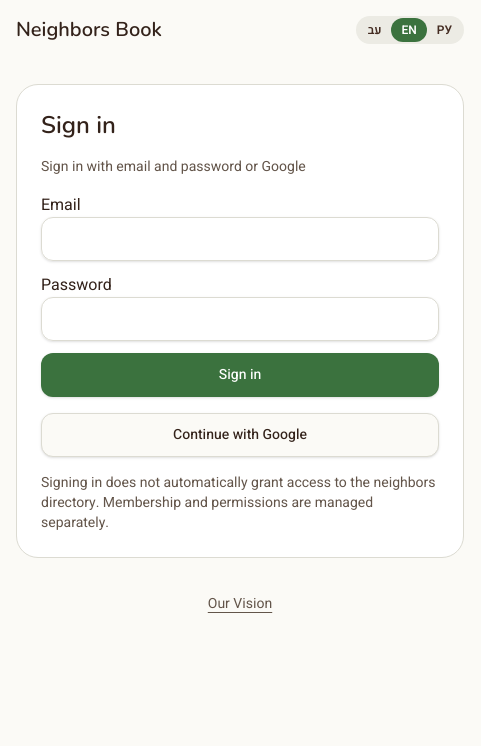
Test: never redirects or exposes raw credential errors after a failed sign-in
The image size is (481, 746).
Type "user@example.test" into the field labelled "Email". click: x=240, y=239
box: [41,217,439,261]
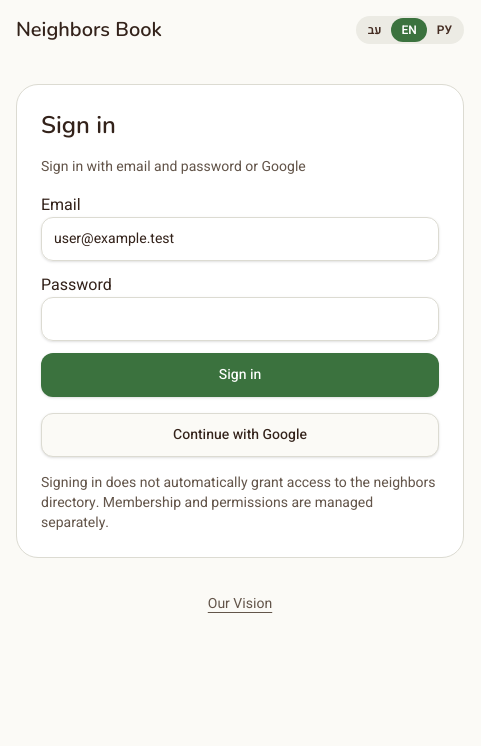
Type "wrong-password" into the password field labelled "Password". click: x=240, y=319
box: [41,297,439,341]
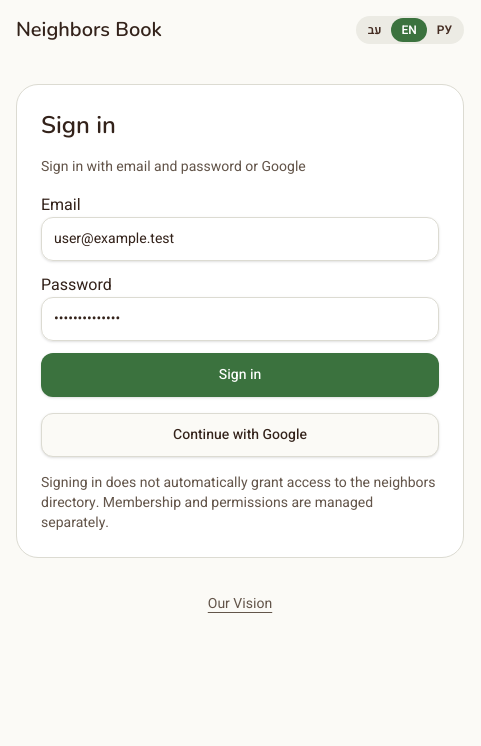
Click the button "Sign in". click: x=240, y=375
box: [41,353,439,397]
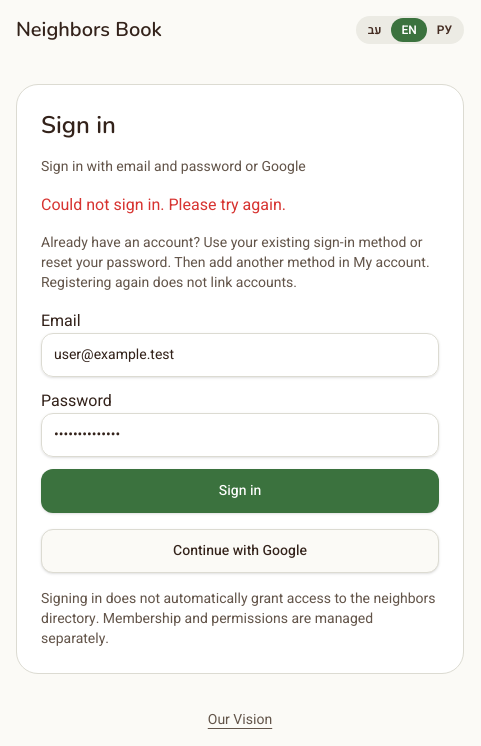
Expected: the message "Could not sign in. Please try again." is shown, [41,193,286,217]
